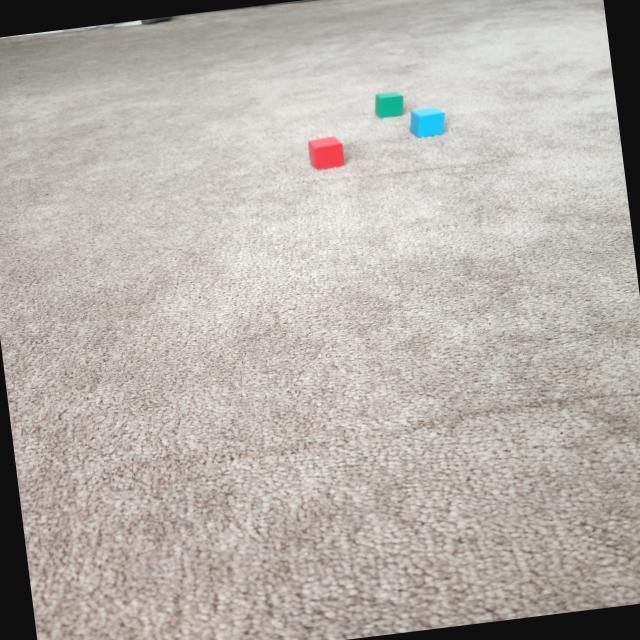bluecube: (410, 106, 444, 136)
green cube: (372, 88, 408, 120)
red cube: (306, 134, 346, 172)
